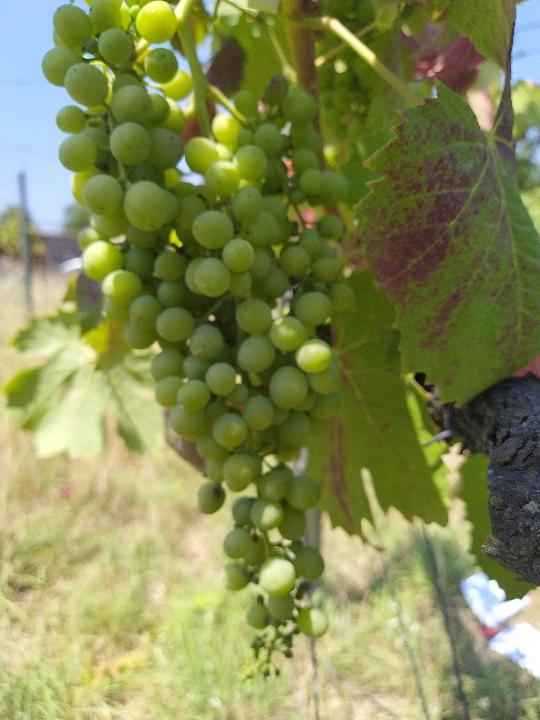grape: (40, 3, 364, 686)
